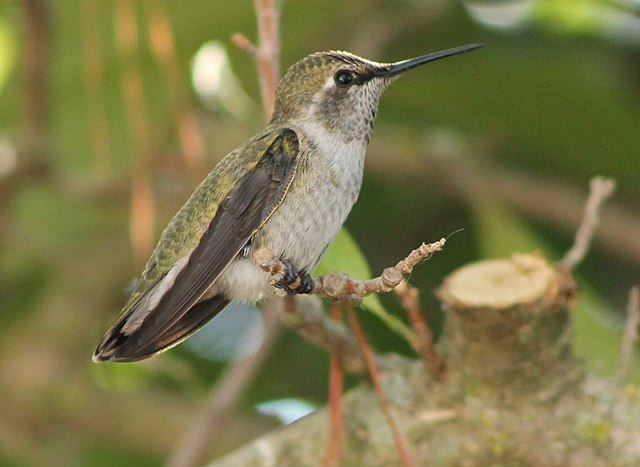calypte anna: (89, 43, 484, 365)
